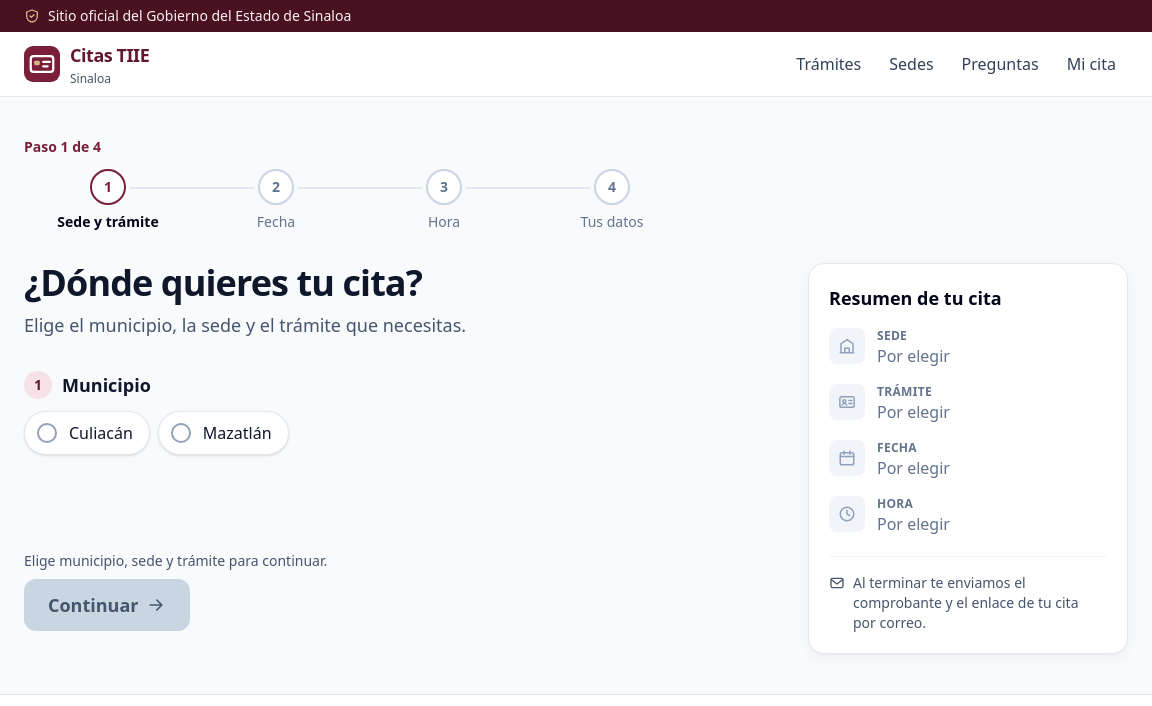
Test case: Asistente de reserva › al elegir el trámite muestra sus requisitos antes de pedir el horario
Click the radio button labelled "Culiacán".
click(47, 432)  # box [37,422,57,442]
(page scrolled)
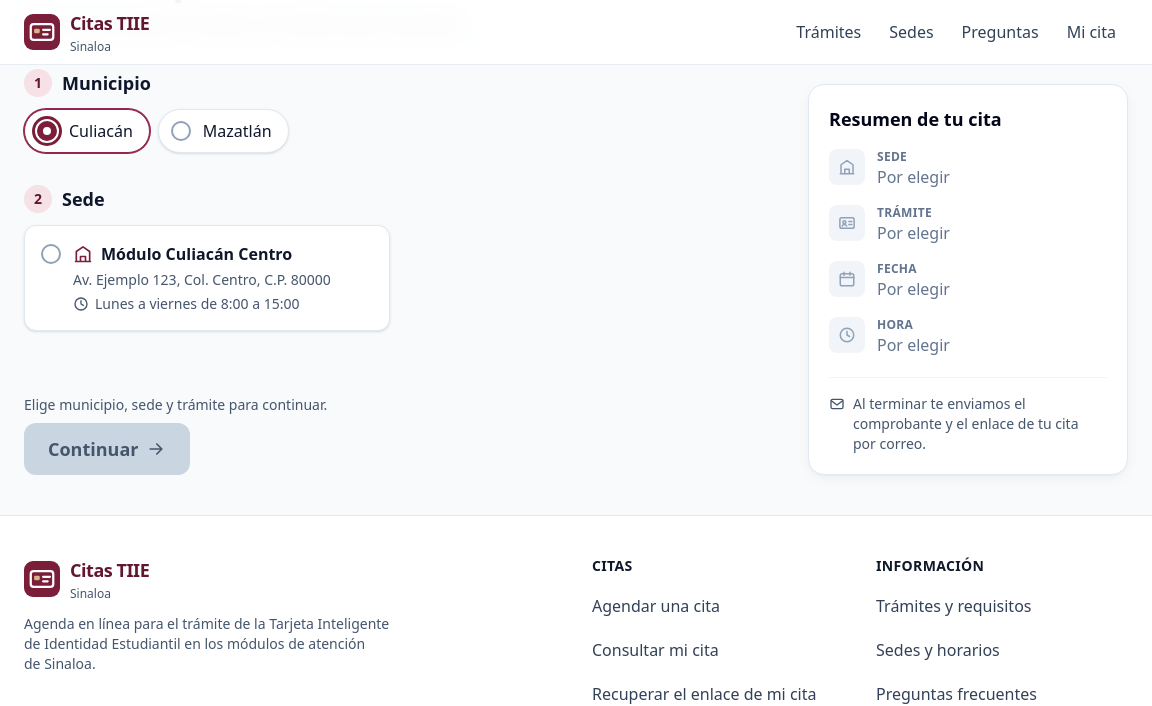
Click the radio button labelled "Módulo Culiacán Centro".
click(51, 254)  # box [41,244,61,264]
(page scrolled)
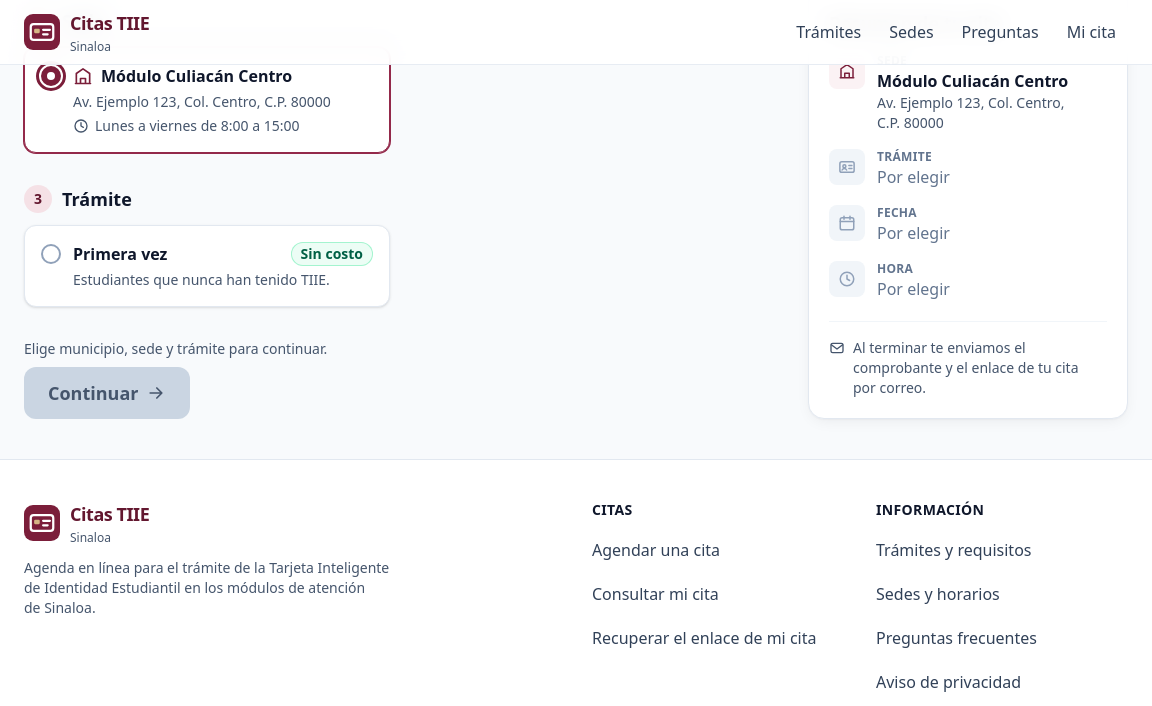
Expected: the heading "Lo que deberás llevar a tu cita" is not shown
Click the radio button labelled "Primera vez Sin costo Estudiantes que nunca han tenido TIIE.".
click(51, 254)  # box [41,244,61,264]
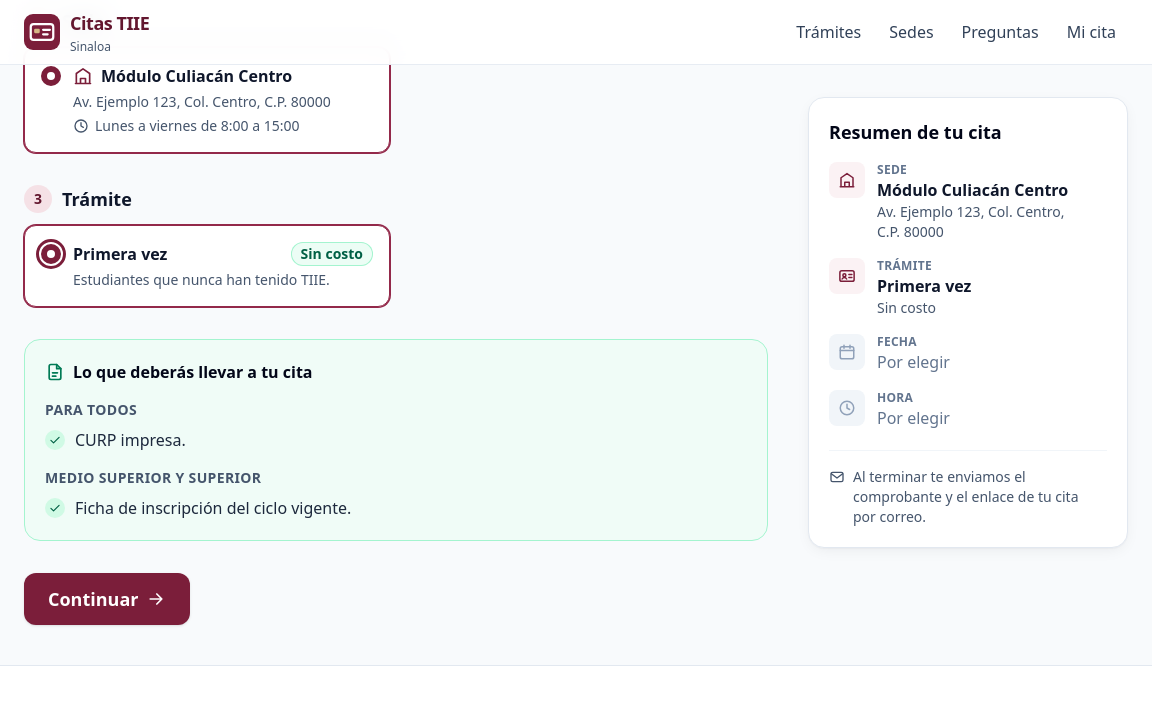
Expected: the text "CURP impresa." is shown, [75,428,186,452]
Expected: the text "Medio superior y superior" is shown, [45,468,261,486]
